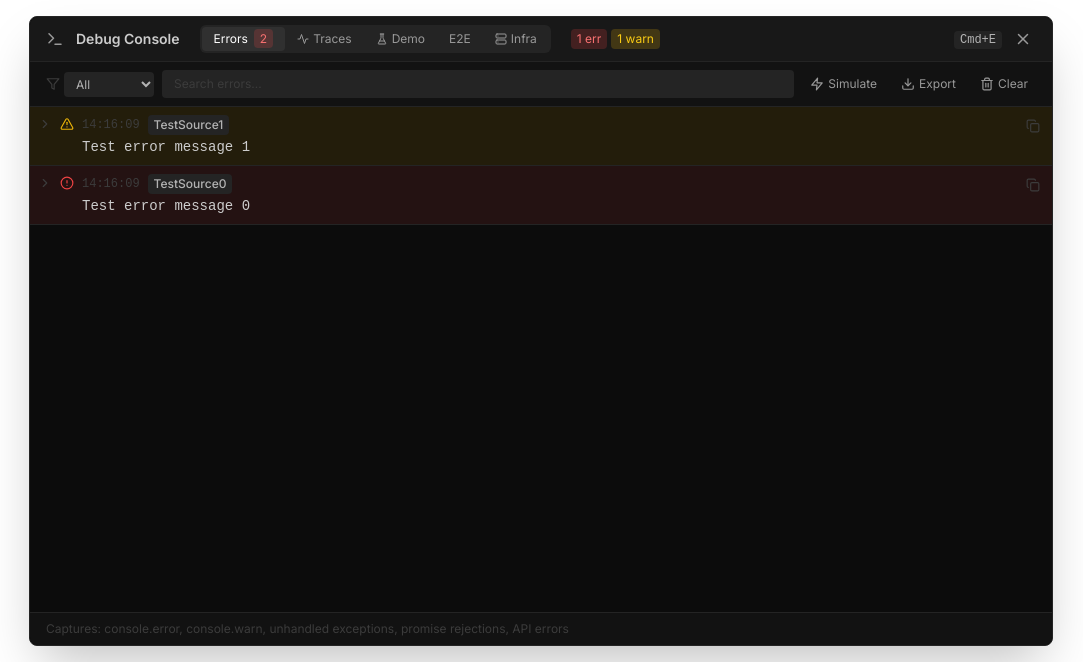
Test case: ErrorConsole › Clear › clears errors when Clear button clicked on Errors tab
The width and height of the screenshot is (1083, 662).
Check: the text "Test error message 0" is shown, box [82,198,250,214]
Click the button titled "Clear errors" at (1004, 84), box [972,72,1036,96]
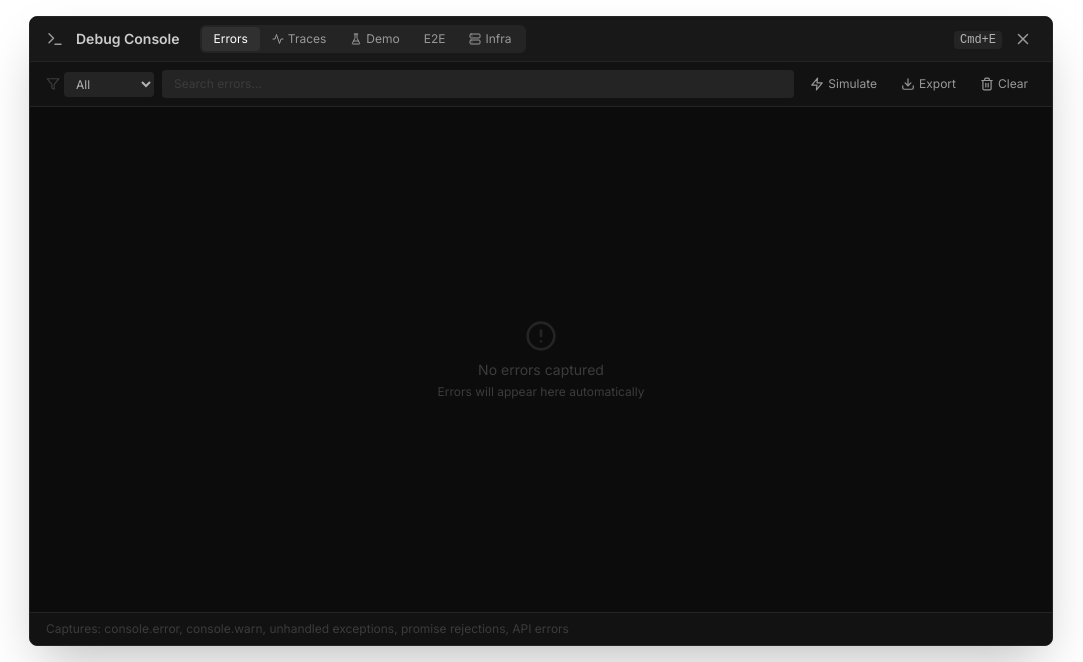
Check: the text "No errors captured" is shown, box [478,360,604,380]
